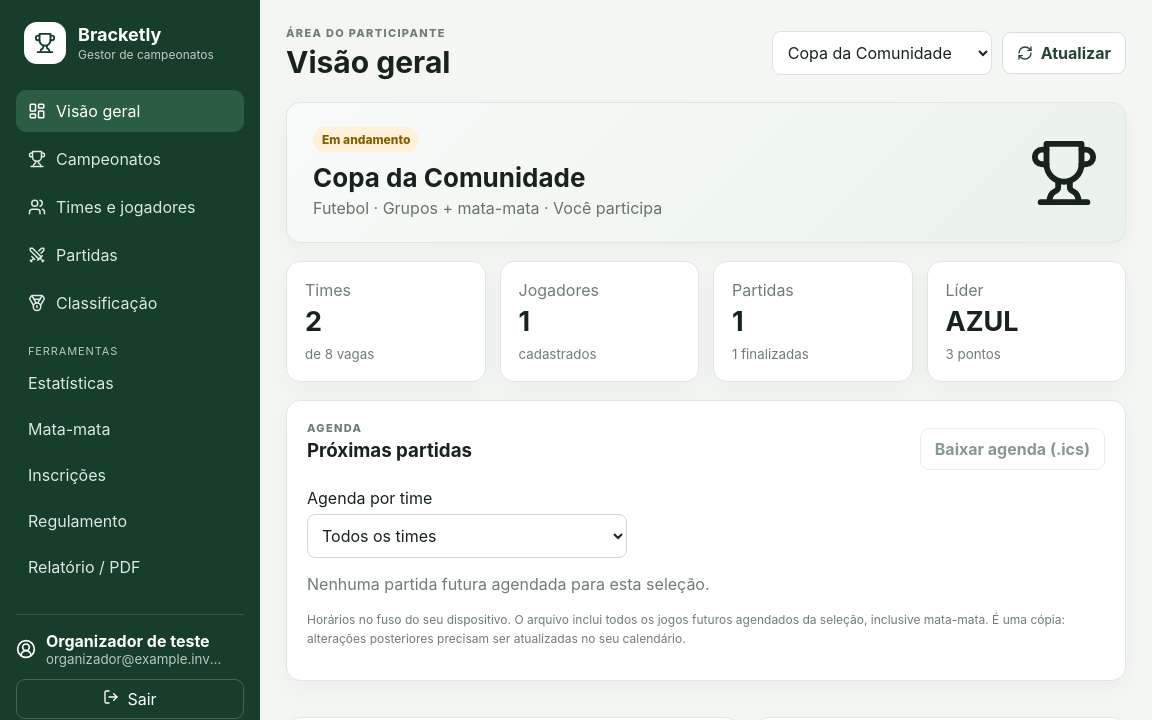
Test: permite editar somente o próprio time
Expected: the heading "Copa da Comunidade" is shown, [313, 162, 585, 193]
Click the button "Times e jogadores". click: (130, 207)
box: [16, 186, 244, 228]
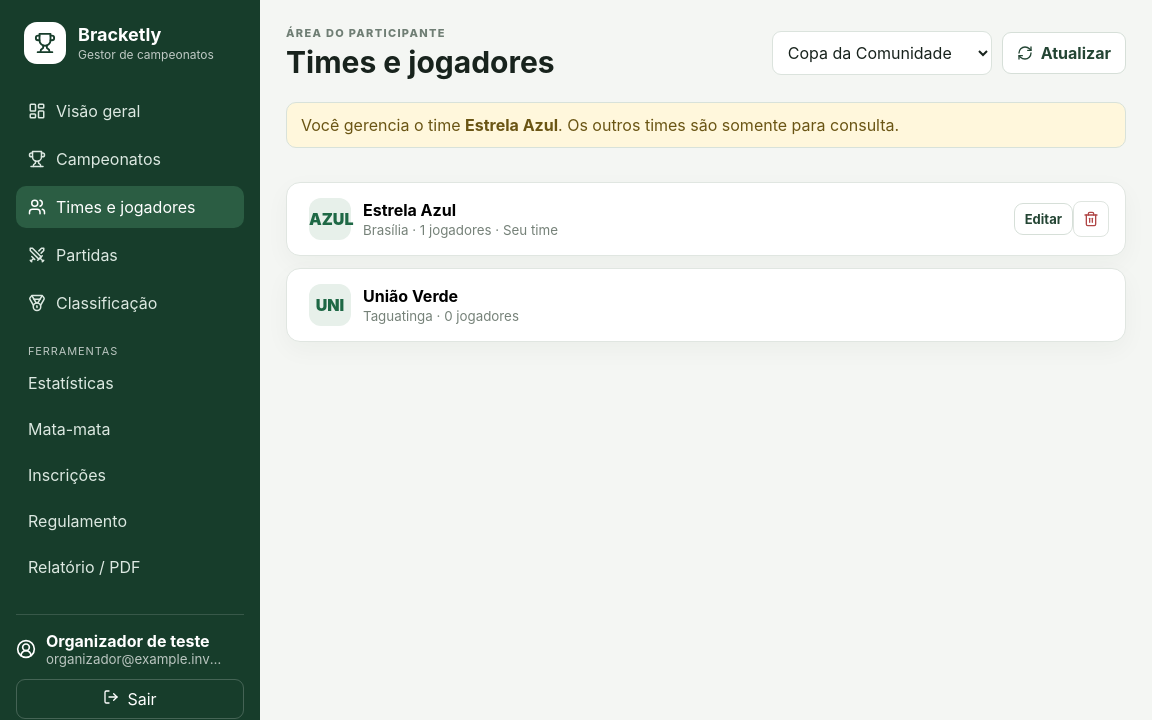
Now the number of buttons named "Excluir time" is 1, box [1073, 201, 1109, 237]
Click the button "Editar". click: (1043, 219)
box: [1014, 203, 1073, 235]
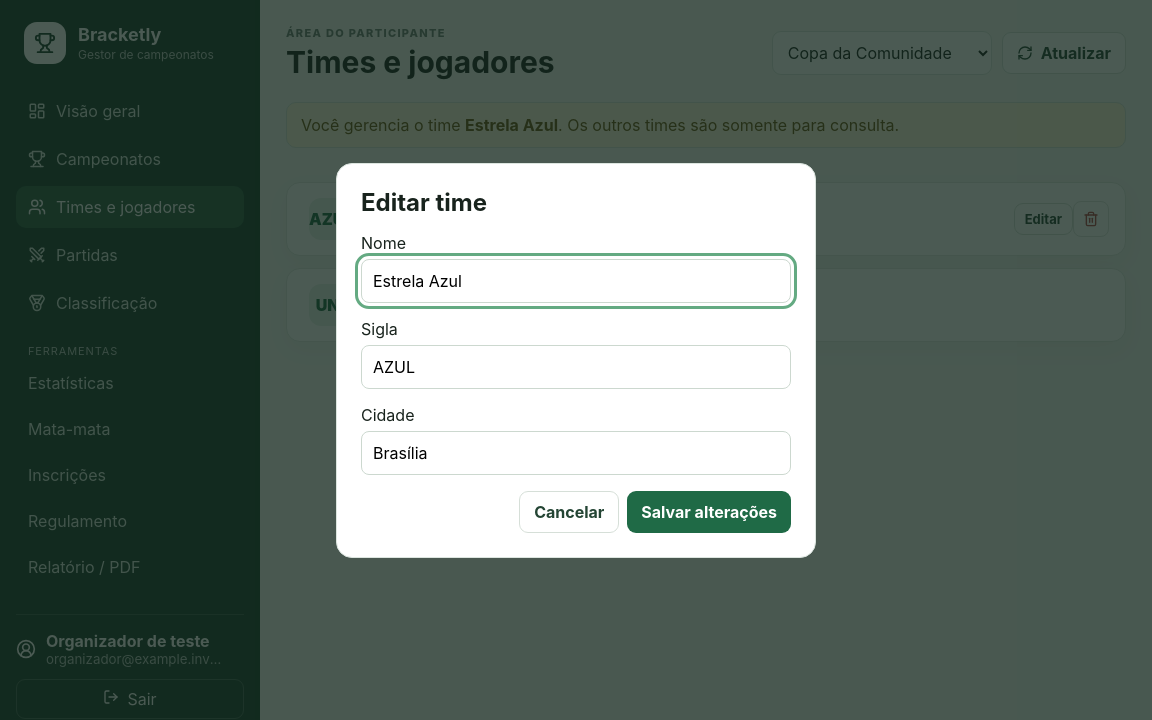
Now the field labelled "Nome" holds "Estrela Azul", box [361, 258, 791, 302]
